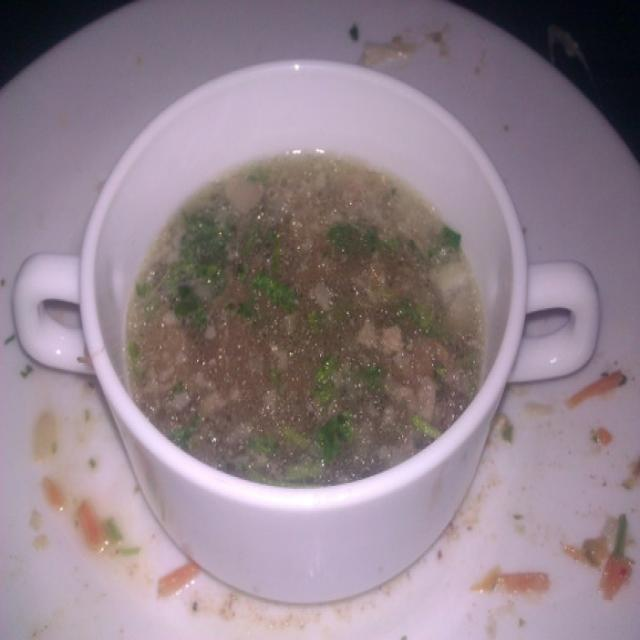汤锅炖物: (55, 53, 554, 594)
